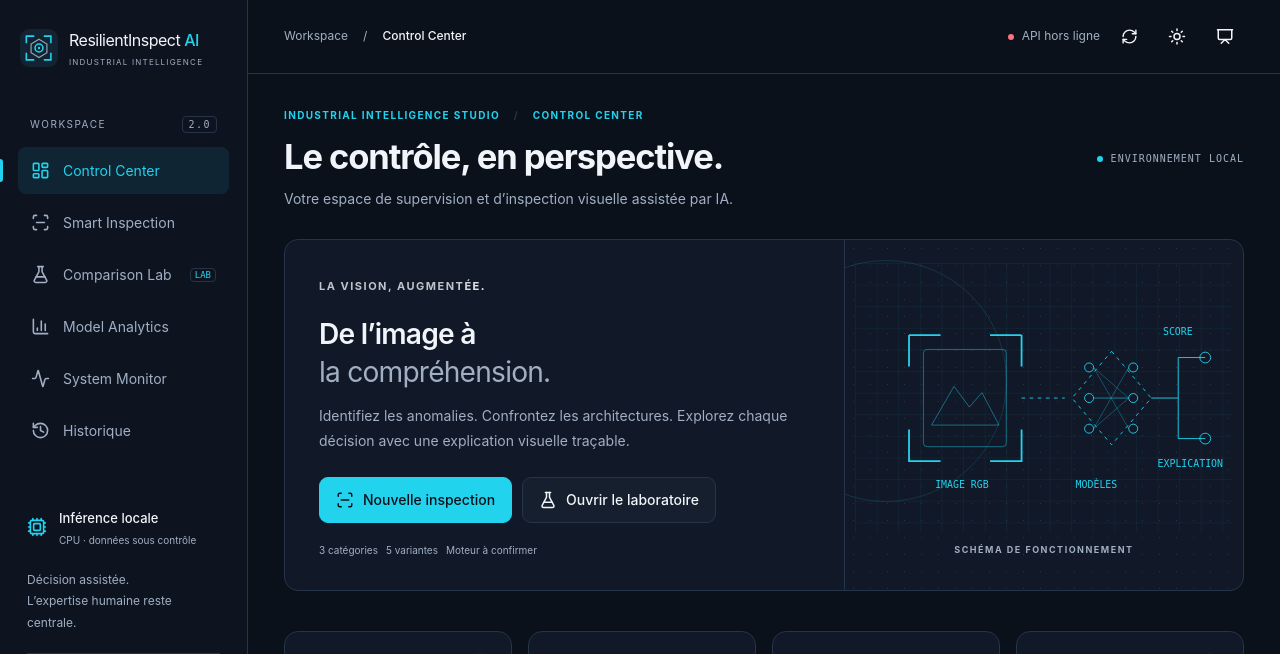
Test case: offline API is explicit and can recover through a real refresh
Expected: the text "API hors ligne" is shown, [1008,27,1100,46]
Click the button named "Actualiser le statut API".
click(1129, 36)  # box [1110,18,1148,56]
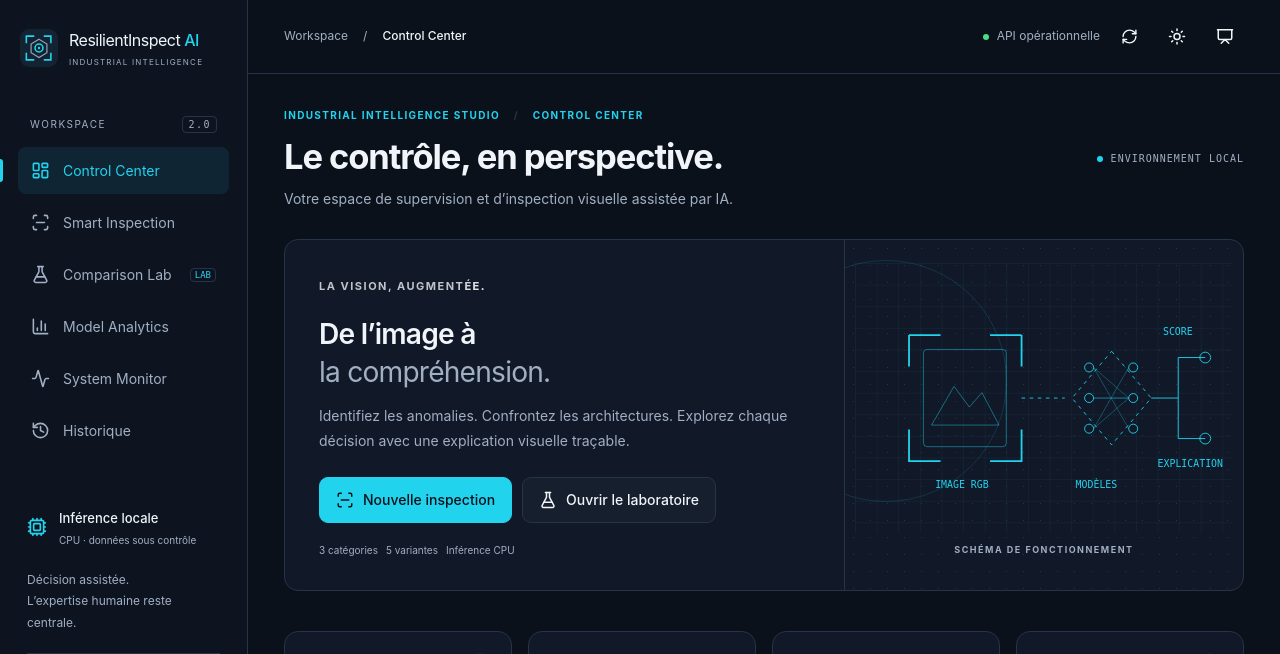
Expected: the text "API opérationnelle" is shown, [983,27,1100,46]
